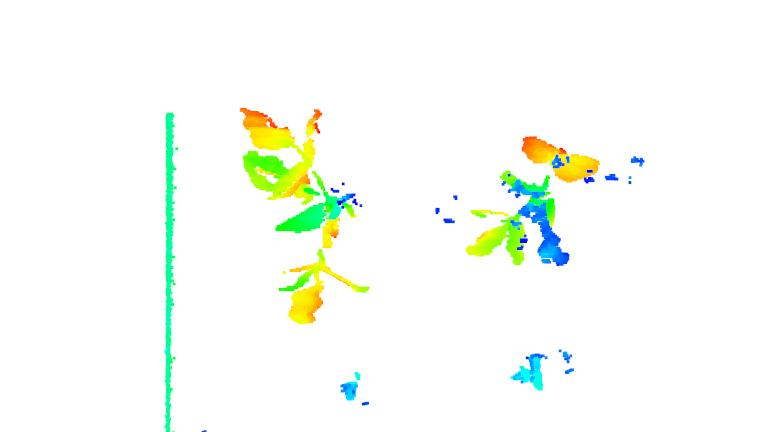mungbean: (237, 97, 371, 325), (462, 130, 600, 272)
